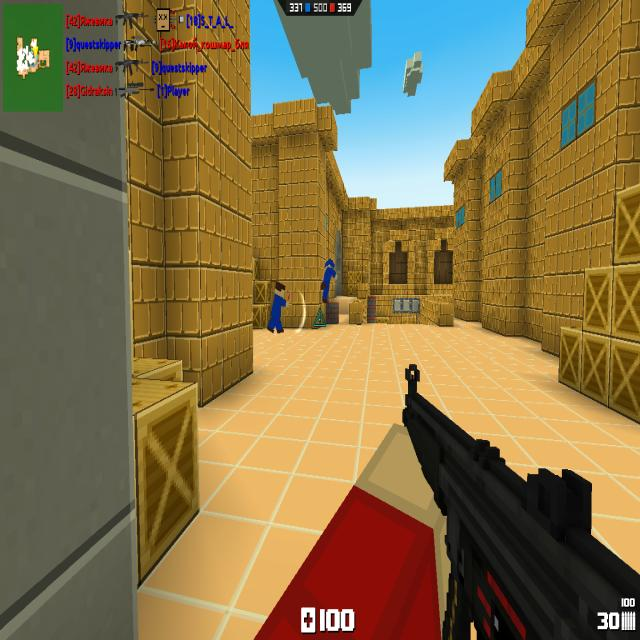enemy: (267, 280, 290, 334)
